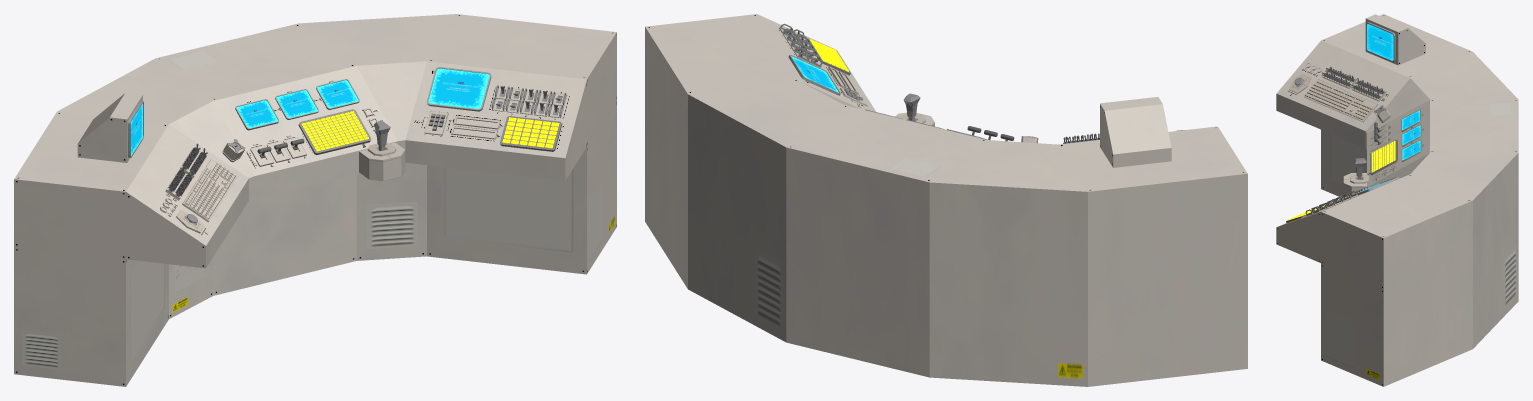
File: panel_3a.fbx
The picture shows the model from 3 angles, left to right: view 1: azimuth 30°, elevation 25°; view 2: azimuth 150°, elevation 25°; view 3: azimuth 270°, elevation 25°; orthographic projection. The views are drawn at different scales.
Parts seen in each view (by area): view 1: panel_3a, display.004, button_board.001, joystick_big.001, keyboard.001, button_board_big.001, display.002, display.001, display.003, display.005; view 2: panel_3a, display.004, button_board_big.001, joystick_big.001; view 3: panel_3a, keyboard.001, display.005, button_board.001, joystick_big.001, switch_board.001, switch_board.002, joystick.001, display.002, display.001, display.003.
Part boxes in pixels (<box>): panel_3a: <box>14,14,616,386</box>; display.004: <box>426,67,491,111</box>; button_board.001: <box>298,109,371,154</box>; joystick_big.001: <box>359,120,405,180</box>; keyboard.001: <box>182,158,237,222</box>; button_board_big.001: <box>500,116,562,151</box>; display.002: <box>235,99,279,130</box>; display.001: <box>275,89,318,119</box>; display.003: <box>316,79,359,109</box>; display.005: <box>128,101,143,157</box>; panel_3a: <box>645,14,1247,386</box>; display.004: <box>788,54,840,95</box>; button_board_big.001: <box>807,38,850,75</box>; joystick_big.001: <box>895,93,934,126</box>; panel_3a: <box>1276,14,1518,386</box>; keyboard.001: <box>1304,79,1377,122</box>; display.005: <box>1366,22,1395,61</box>; button_board.001: <box>1370,140,1397,175</box>; joystick_big.001: <box>1343,158,1368,196</box>; switch_board.001: <box>1351,78,1386,101</box>; switch_board.002: <box>1322,67,1357,89</box>; joystick.001: <box>1289,73,1311,93</box>; display.002: <box>1401,109,1421,131</box>; display.001: <box>1401,124,1421,146</box>; display.003: <box>1401,139,1421,161</box>.
Size of the model in its own units: 841 by 318 by 383.
5 materials, 5 textured.
